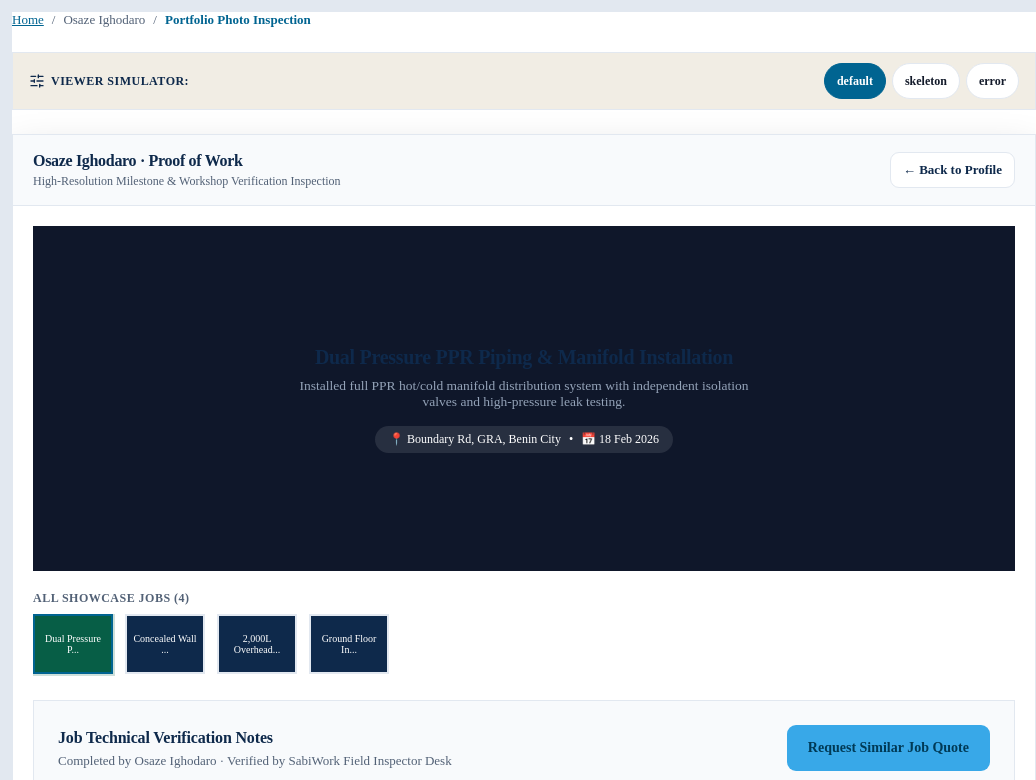
Test: Artisan Profiles & Verification (S04, S05, S06, S40, S41) › renders S05 Portfolio Viewer and allows selecting different proof photos
Expected: the heading "Dual Pressure PPR Piping & Manifold Installation" is shown, [298, 344, 750, 370]
Click the button with aria-label "View photo Concealed Wall Vanity".
click(165, 644)  # box [125, 614, 205, 674]
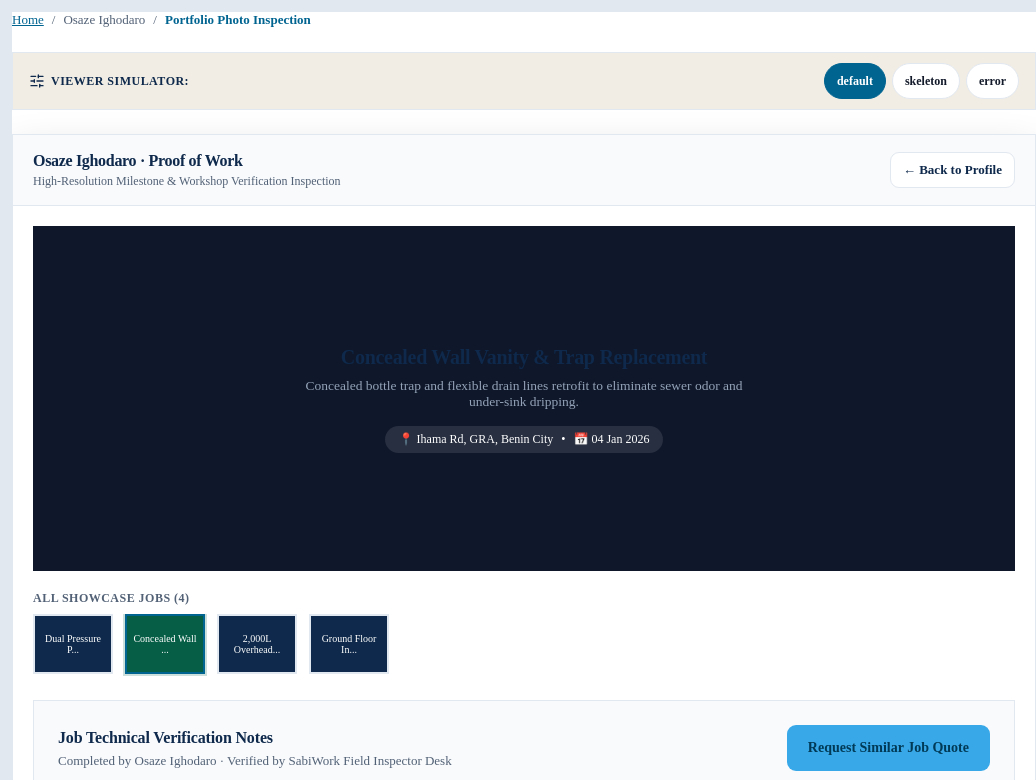
Now the heading "Concealed Wall Vanity & Trap Replacement" is shown, box [341, 346, 707, 368]
